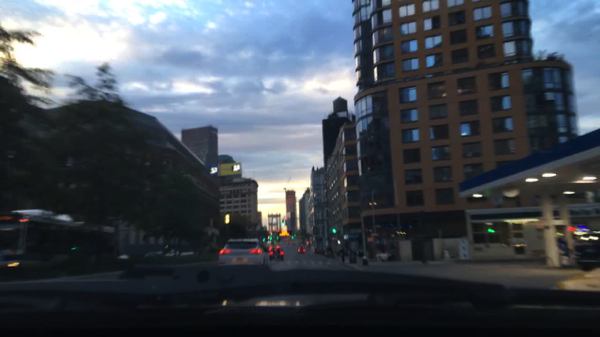bus: (1, 209, 119, 279)
car: (217, 238, 268, 269), (573, 234, 599, 270), (375, 252, 394, 262), (269, 249, 284, 261), (145, 250, 164, 259), (166, 248, 180, 257), (118, 254, 132, 262), (267, 245, 280, 252), (181, 250, 194, 257), (297, 244, 306, 254), (291, 242, 296, 247), (284, 240, 291, 243), (287, 242, 292, 246)
person: (338, 247, 346, 262), (307, 242, 312, 252)
traffic light: (330, 228, 337, 234), (280, 220, 285, 226)
traffic sign: (371, 233, 379, 238), (374, 224, 381, 228)
